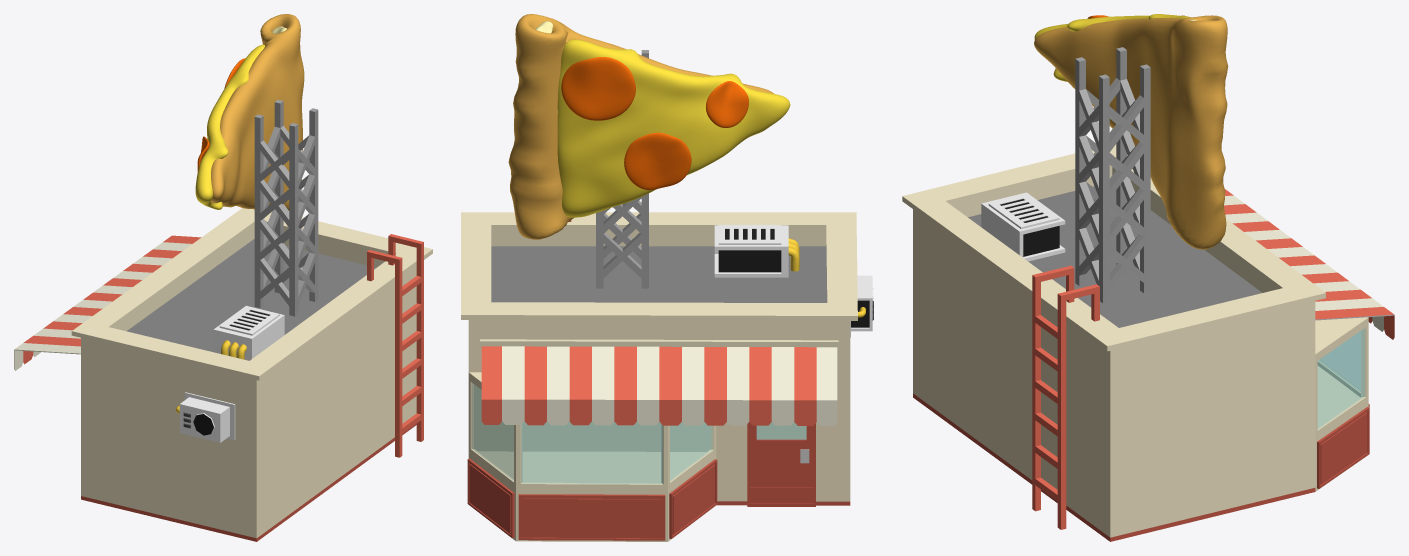
Rendered from PizzaShop.fbx.
3 renders of one model, left to right at view 1: azimuth 30°, elevation 25°; view 2: azimuth 150°, elevation 25°; view 3: azimuth 270°, elevation 25°, orthographic. The views are drawn at different scales.
Visible parts, largest first — view 1: DoughnutShop1; view 2: DoughnutShop1; view 3: DoughnutShop1.
Part boxes in pixels (bbox=[...]): DoughnutShop1: bbox=[14, 14, 432, 541]; DoughnutShop1: bbox=[461, 14, 873, 541]; DoughnutShop1: bbox=[902, 14, 1394, 541].
Bounding box in the file's own units: 3.24 × 3.27 × 3.12.
